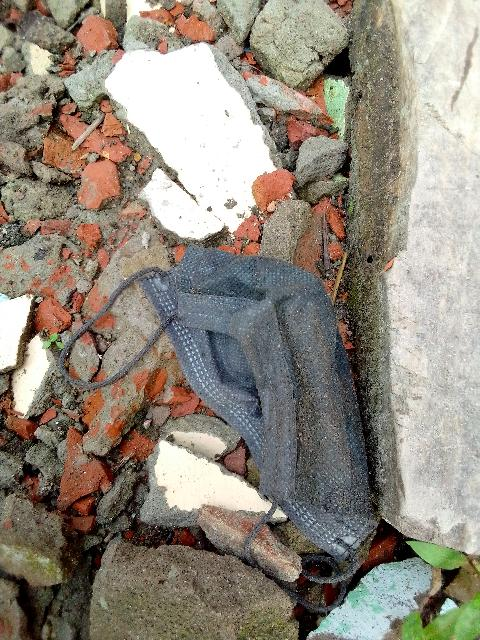mask: (171, 258, 377, 541)
